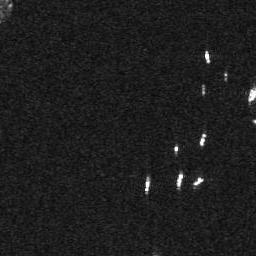ship: (248, 85, 256, 106), (175, 171, 184, 189), (200, 131, 208, 148), (193, 174, 204, 186), (144, 176, 150, 193), (204, 49, 210, 64)
